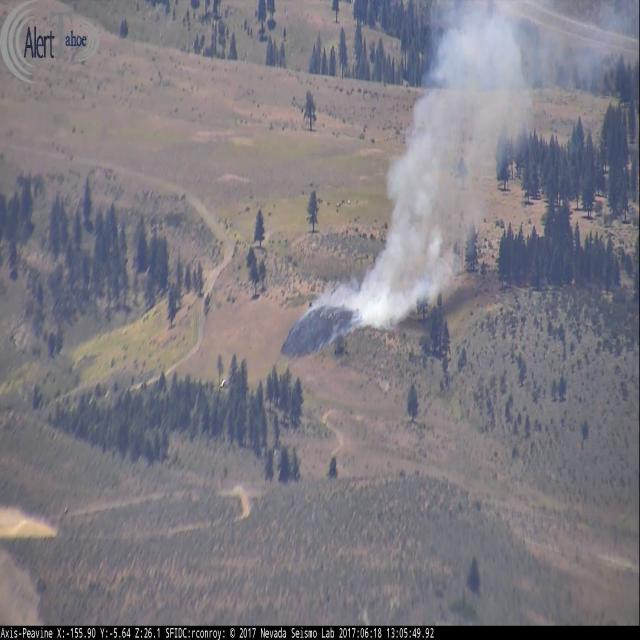smoke: (311, 0, 531, 353)
